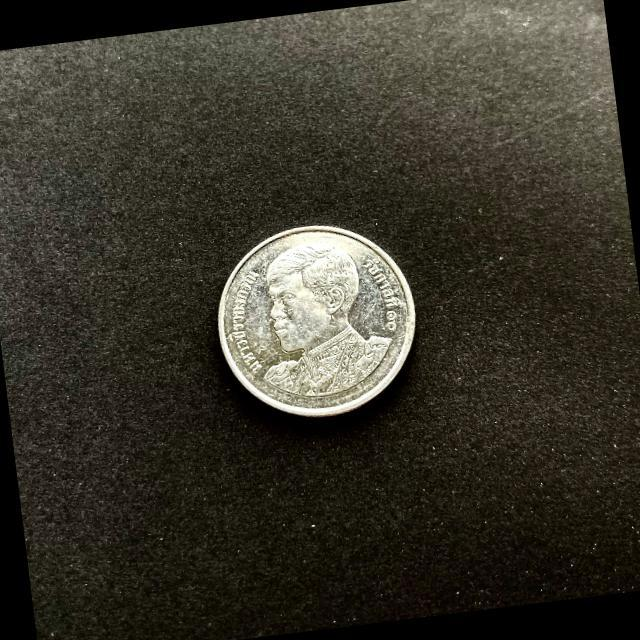1 Bath: (218, 224, 420, 423)
